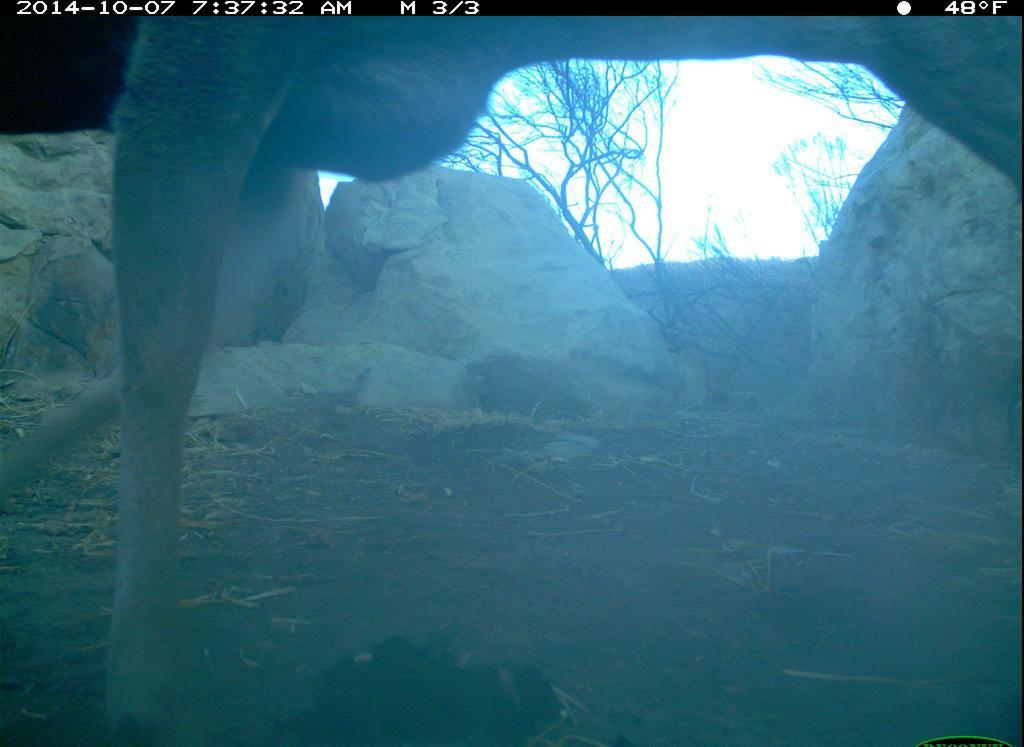deer: (89, 6, 1023, 745)
